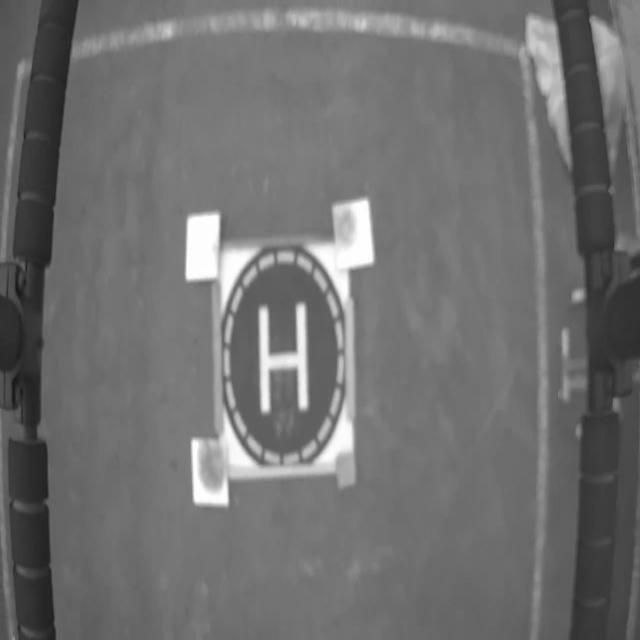Helipad: (258, 302, 307, 417)
